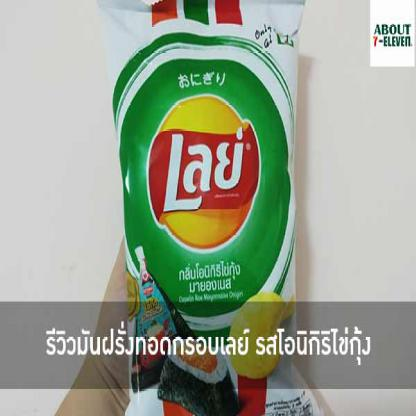potatochip: (98, 0, 320, 415)
